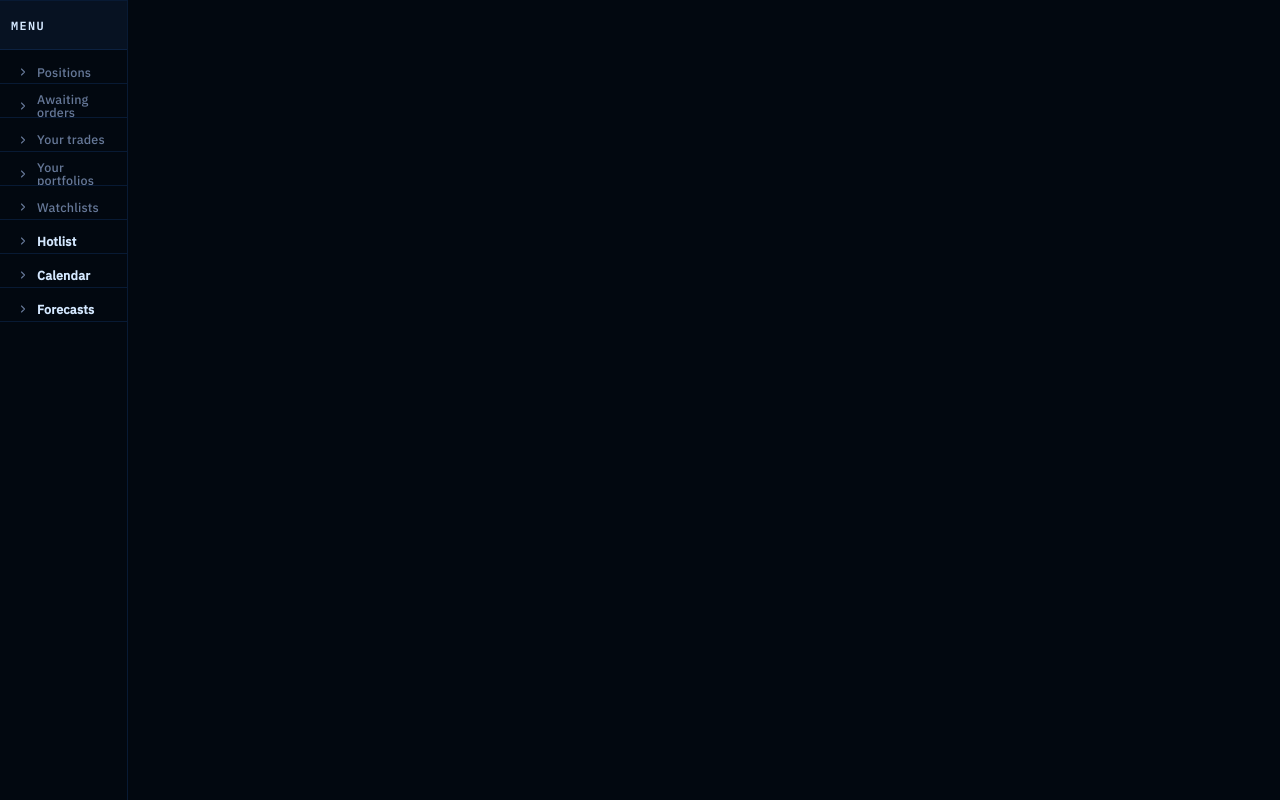
it: FloorLists › the Forecasts header opens the heat map in the panel, not a list in the column
The image size is (1280, 800).
What coordinates should you click on to do the following:
click the button "Forecasts"
I would click on:
 (68, 309)
Its box is [5,293,132,326].
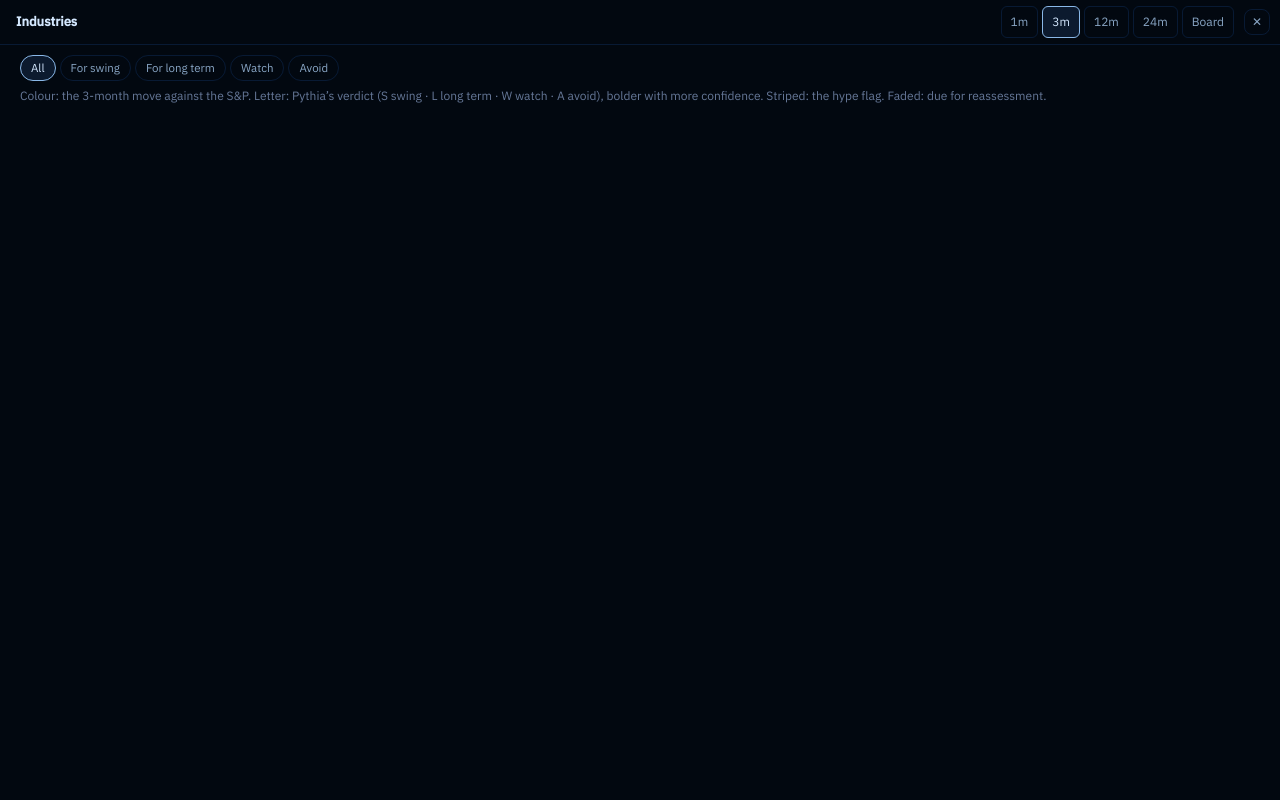
Now the dialog "Industries" is shown
